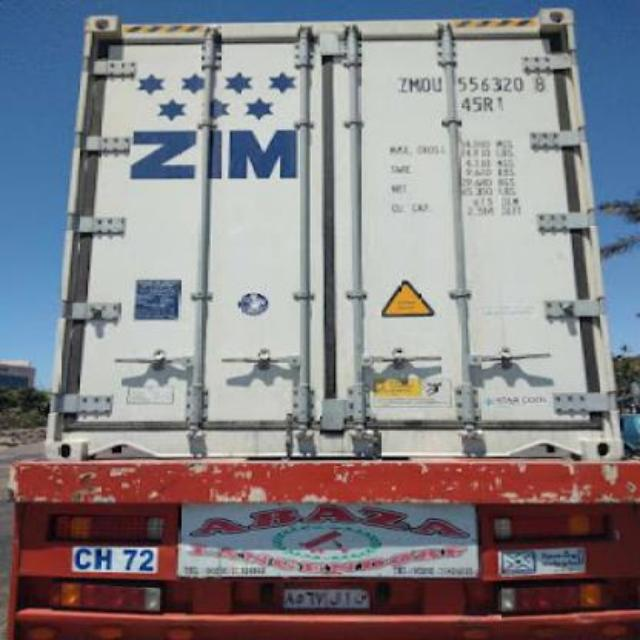0: (514, 66, 528, 98)
2: (502, 66, 514, 98)
3: (490, 66, 502, 94)
5: (458, 73, 468, 94), (468, 72, 478, 92)
6: (478, 74, 492, 95)
8: (530, 68, 552, 94)
M: (410, 69, 422, 95)
O: (416, 66, 432, 98)
U: (432, 71, 440, 95)
Z: (394, 67, 410, 97)
